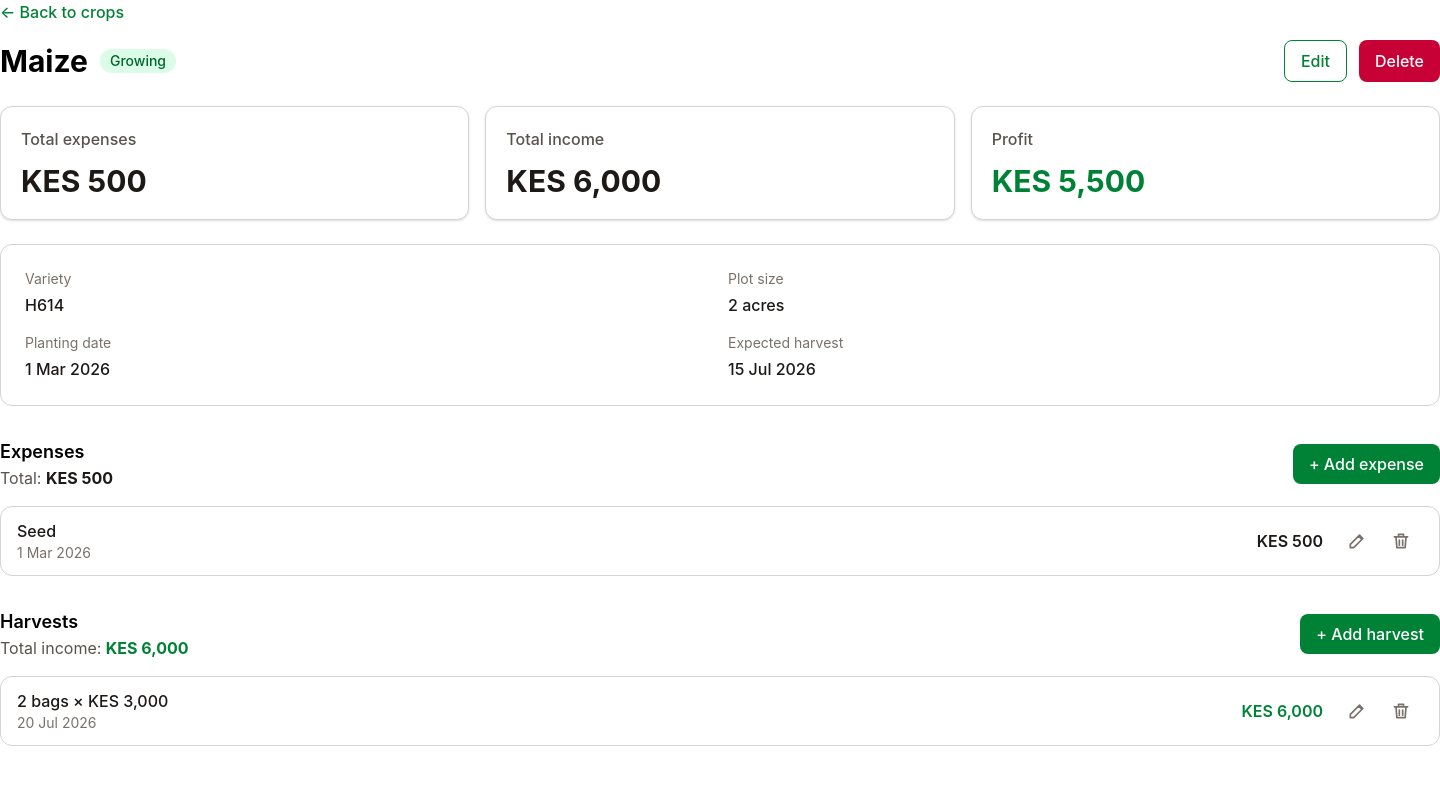
Test: CropDetails page › warns that deleting the crop deletes its expenses and harvests
What coordinates should you click on to do the following:
click the button "Delete"
I would click on:
 (1399, 61)
Its box is x1=1359 y1=40 x2=1439 y2=82.
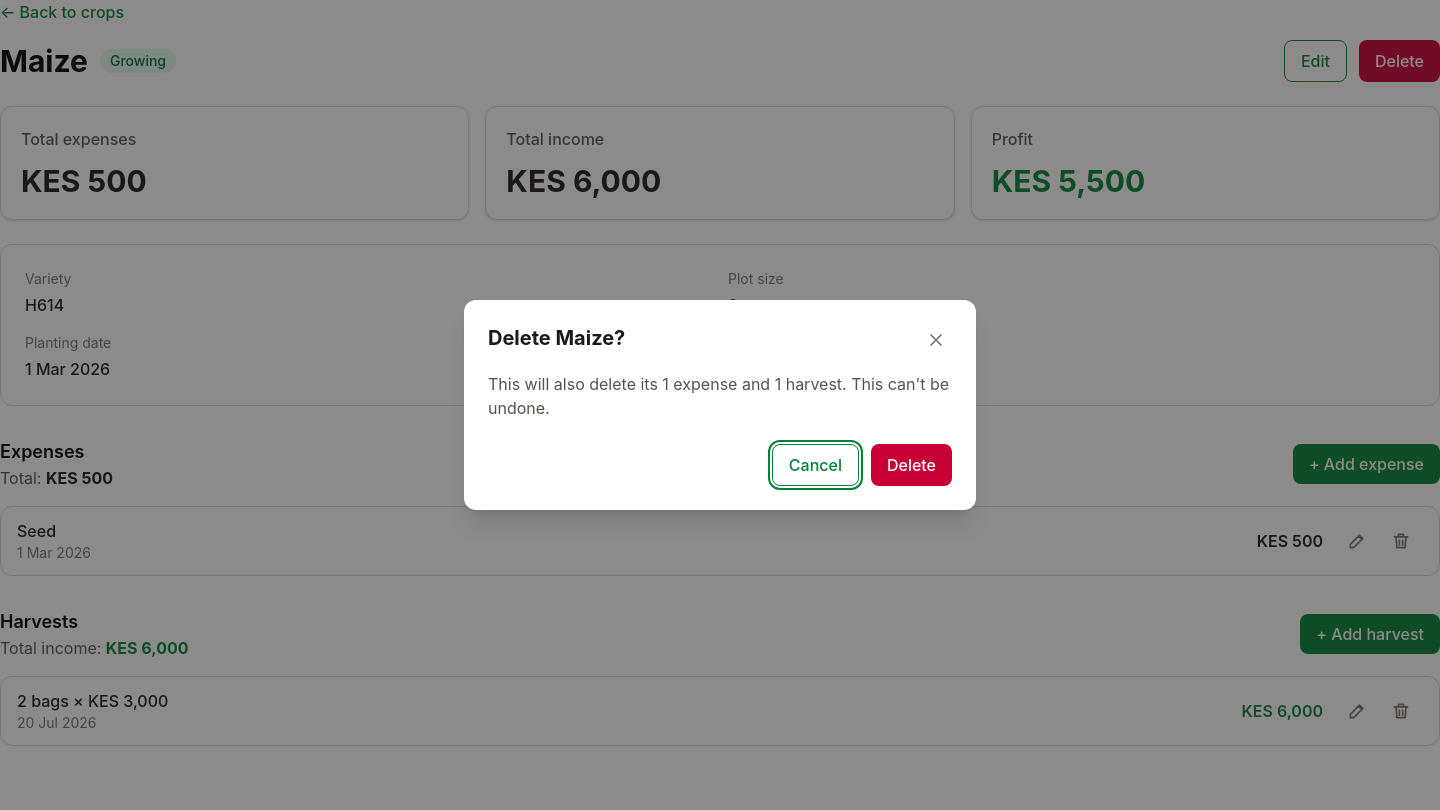
Check: the dialog shows "This will also delete its 1 expense and 1 harvest.", box x1=488 y1=374 x2=949 y2=418
